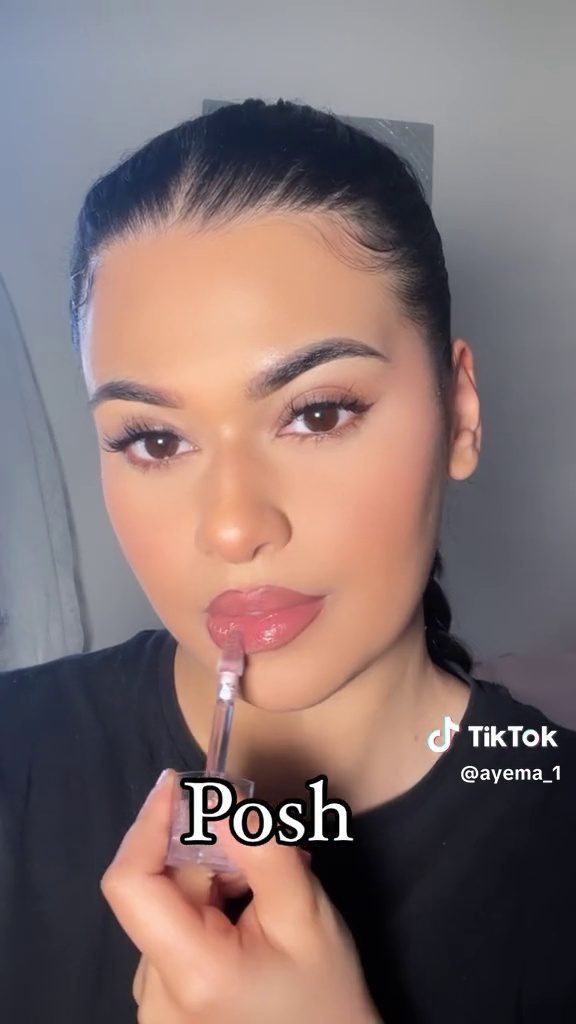train' :'yolo_data/train/images',: (154, 620, 263, 876)
